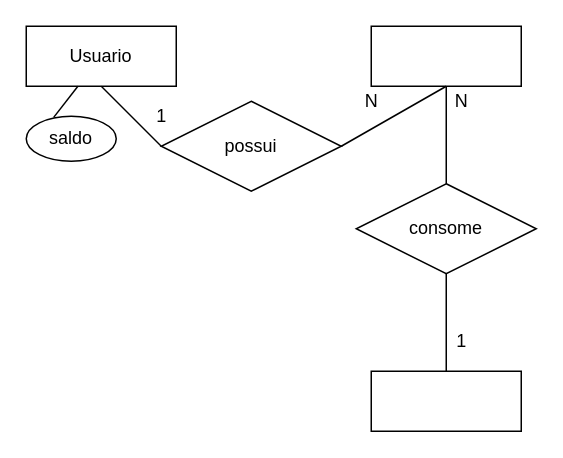
Image size: 563x458. Some labels were removed from this diagram. The centre of each missing label's shape, as x and y in pixels:
"Café" belongs at (445,400).
"Cartão" belongs at (445,55).
